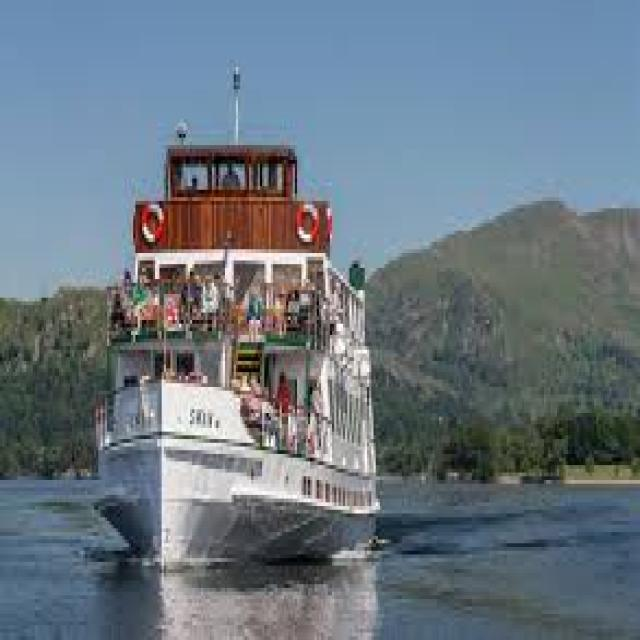passenger ship: (93, 117, 390, 568)
